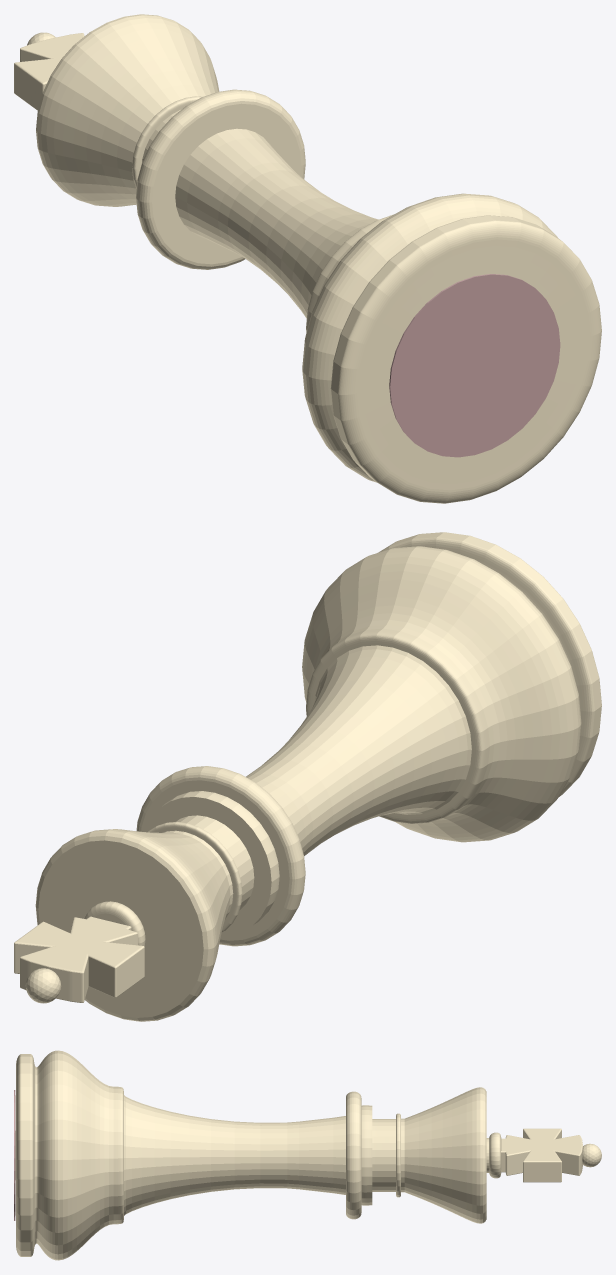
File: king.glb
The picture shows the model from 3 angles, top to bottom: view 1: azimuth 30°, elevation 25°; view 2: azimuth 150°, elevation 25°; view 3: azimuth 270°, elevation 25°; orthographic projection. The views are drawn at different scales.
Visible parts, largest first — view 1: King_Plastic_0, King_Velvet_0; view 2: King_Plastic_0; view 3: King_Plastic_0.
Boxes of the visible parts, bbox=[...] form: King_Plastic_0: bbox=[14, 14, 601, 503]; King_Velvet_0: bbox=[389, 274, 560, 457]; King_Plastic_0: bbox=[14, 532, 601, 1021]; King_Plastic_0: bbox=[15, 1050, 601, 1260].
Size of the model in its own units: 0.0312 by 0.0312 by 0.0872.
